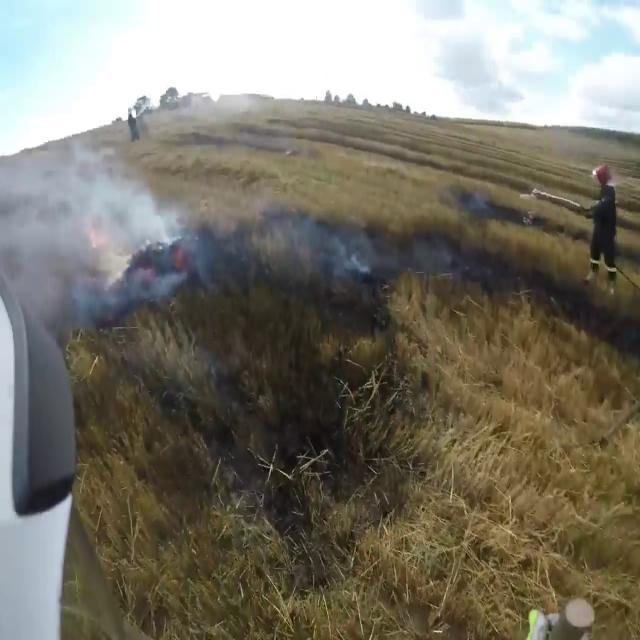Smoke: (0, 130, 190, 344), (246, 194, 374, 284)
